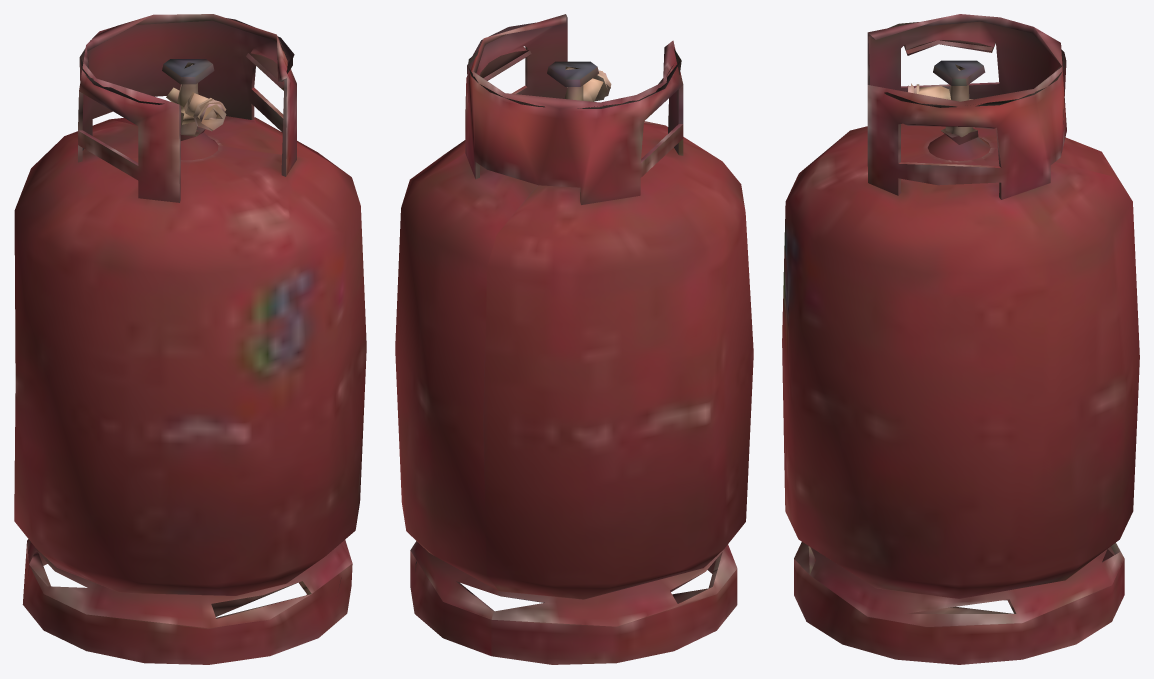
The model's file is propane_tank_lod2.glb.
3 views of the same model, side by side, from view 1: azimuth 30°, elevation 25°; view 2: azimuth 150°, elevation 25°; view 3: azimuth 270°, elevation 25° (orthographic).
Parts seen in each view (by area): view 1: propane_tank; view 2: propane_tank; view 3: propane_tank.
Boxes of the visible parts, <box> form: propane_tank: <box>14,14,366,664</box>; propane_tank: <box>395,14,753,664</box>; propane_tank: <box>782,14,1139,664</box>.
Bounding box in the file's own units: 0.3279 × 0.5534 × 0.3341.
1 material, 1 textured.
